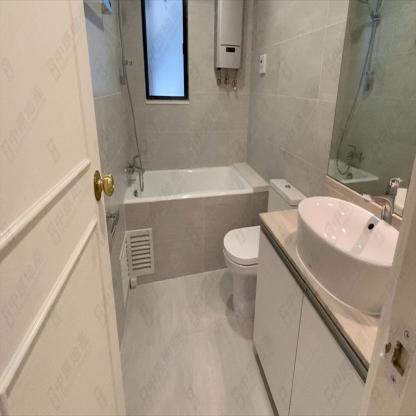Bathtub: (122, 165, 254, 286)
Faucet: (365, 175, 406, 223)
Toilet: (221, 223, 260, 322), (269, 173, 307, 209)
Toilet Sink: (297, 194, 398, 314)
Water Heater: (216, 1, 243, 69)
